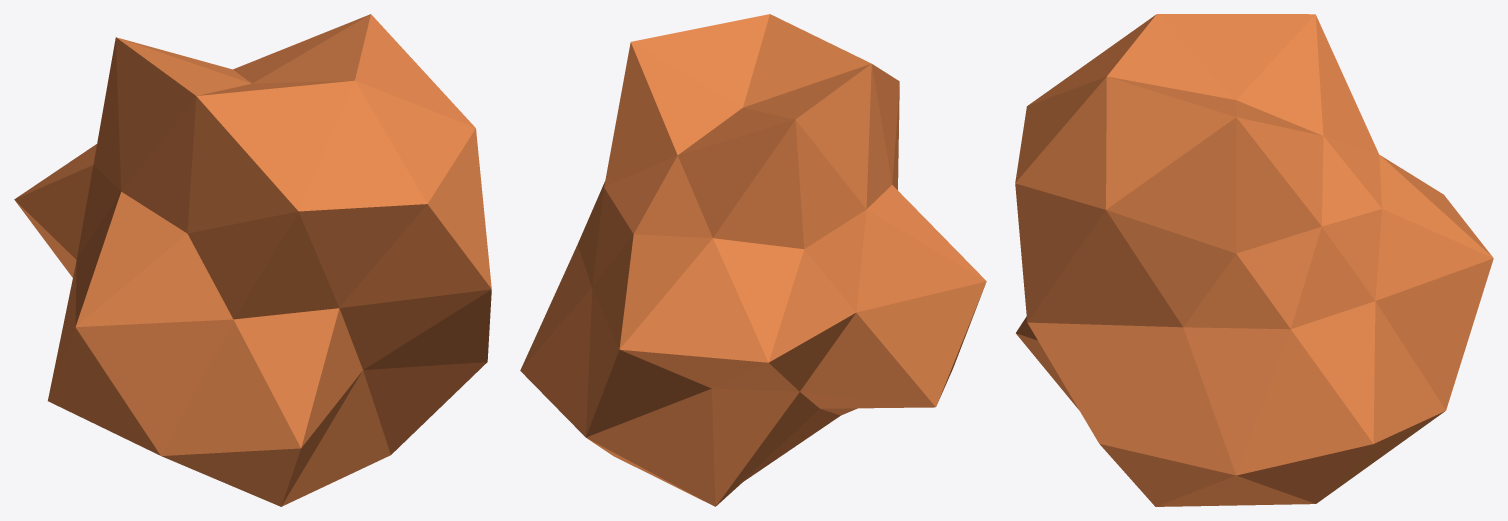
File: Asteroid1.fbx
3 views of the same model, side by side, from view 1: azimuth 30°, elevation 25°; view 2: azimuth 150°, elevation 25°; view 3: azimuth 270°, elevation 25° (orthographic). The views are drawn at different scales.
Visible parts, largest first — view 1: Icosphere; view 2: Icosphere; view 3: Icosphere.
Boxes of the visible parts, left/top/right/bottom form: Icosphere: left=14, top=14, right=491, bottom=506; Icosphere: left=520, top=14, right=986, bottom=506; Icosphere: left=1015, top=14, right=1493, bottom=506.
Bounding box in the file's own units: 216 × 220 × 221.
